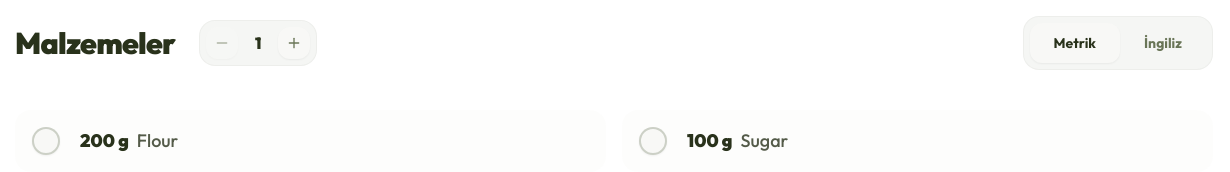
Test case: RecipeIngredients › toggles measurement system
// Switch to Imperial
Click the button "İngiliz" at (1163, 43), box [1120,23,1206,63]
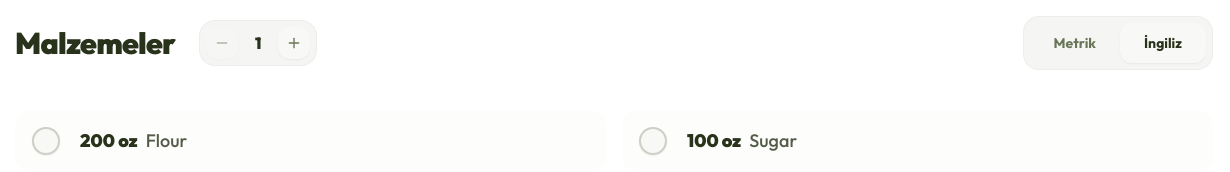
Check: the text "200 oz" is shown, box [80,129,138,152]
Check: the text "100 oz" is shown, box [687,129,741,152]
